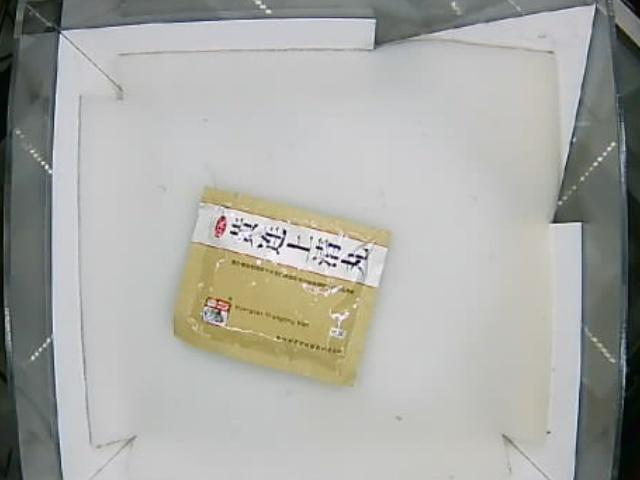Medicine: (173, 187, 388, 385)
